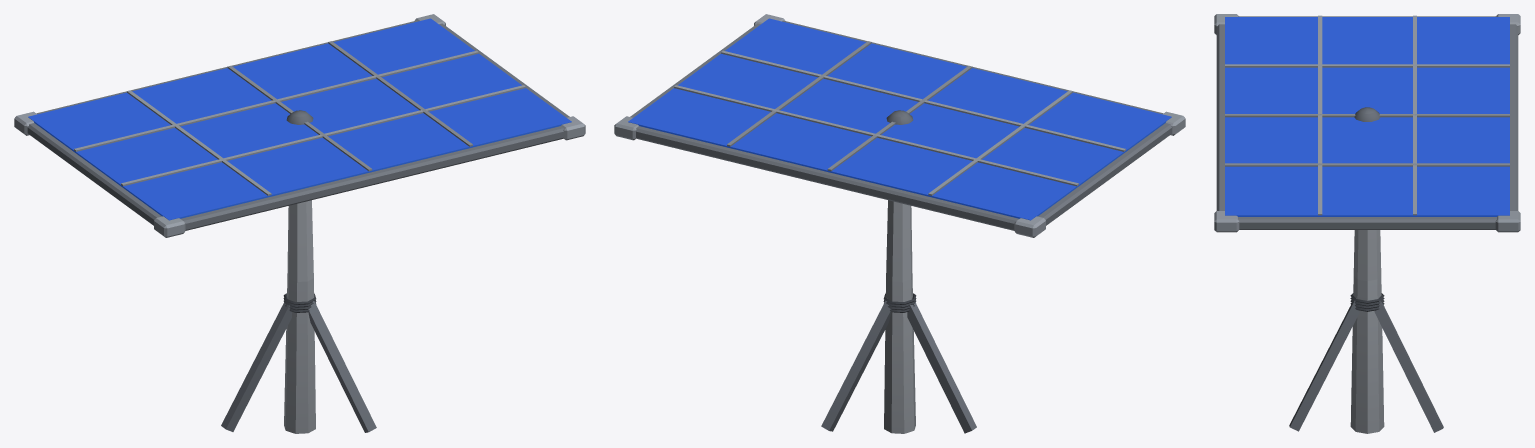
Rendered from solar_panel.glb.
The picture shows the model from 3 angles, left to right: view 1: azimuth 30°, elevation 25°; view 2: azimuth 150°, elevation 25°; view 3: azimuth 270°, elevation 25°; orthographic projection.
Visible parts, largest first — view 1: solar_panel, solar_post; view 2: solar_panel, solar_post; view 3: solar_panel, solar_post.
Part boxes in pixels (x1,y1,x2,y2): solar_panel: (14, 14, 585, 237); solar_post: (221, 110, 376, 433); solar_panel: (614, 14, 1185, 237); solar_post: (821, 110, 976, 433); solar_panel: (1214, 14, 1520, 232); solar_post: (1289, 107, 1443, 433).
Bounding box in the file's own units: 5.86 × 4.19 × 3.66.
